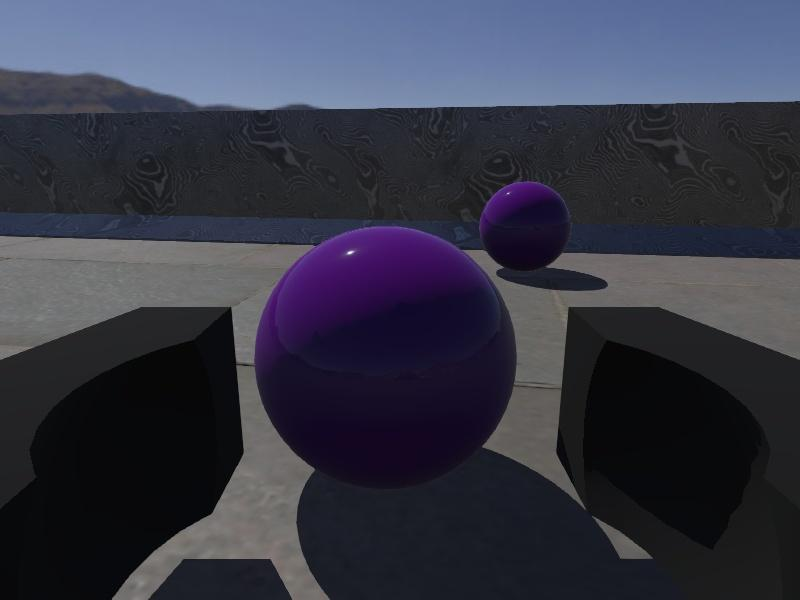violet ball: (254, 225, 518, 492), (478, 180, 573, 273)
